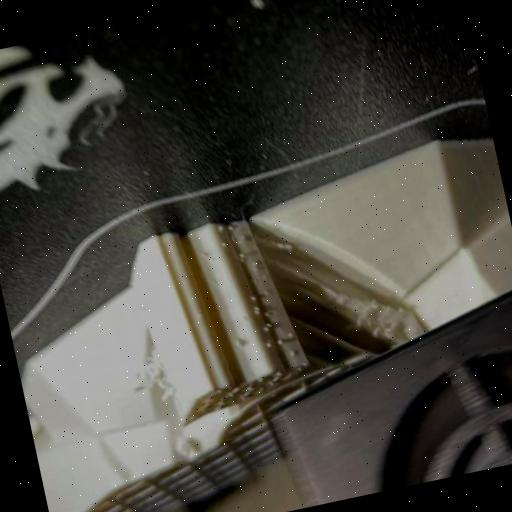blobs: (231, 334, 249, 350), (234, 247, 250, 263), (250, 260, 262, 276), (214, 220, 226, 236), (263, 319, 276, 333), (252, 304, 265, 318), (274, 334, 287, 347), (216, 236, 229, 249), (284, 328, 296, 342), (246, 290, 258, 304), (260, 286, 272, 298), (262, 339, 273, 350), (288, 348, 298, 358), (226, 222, 235, 231)
